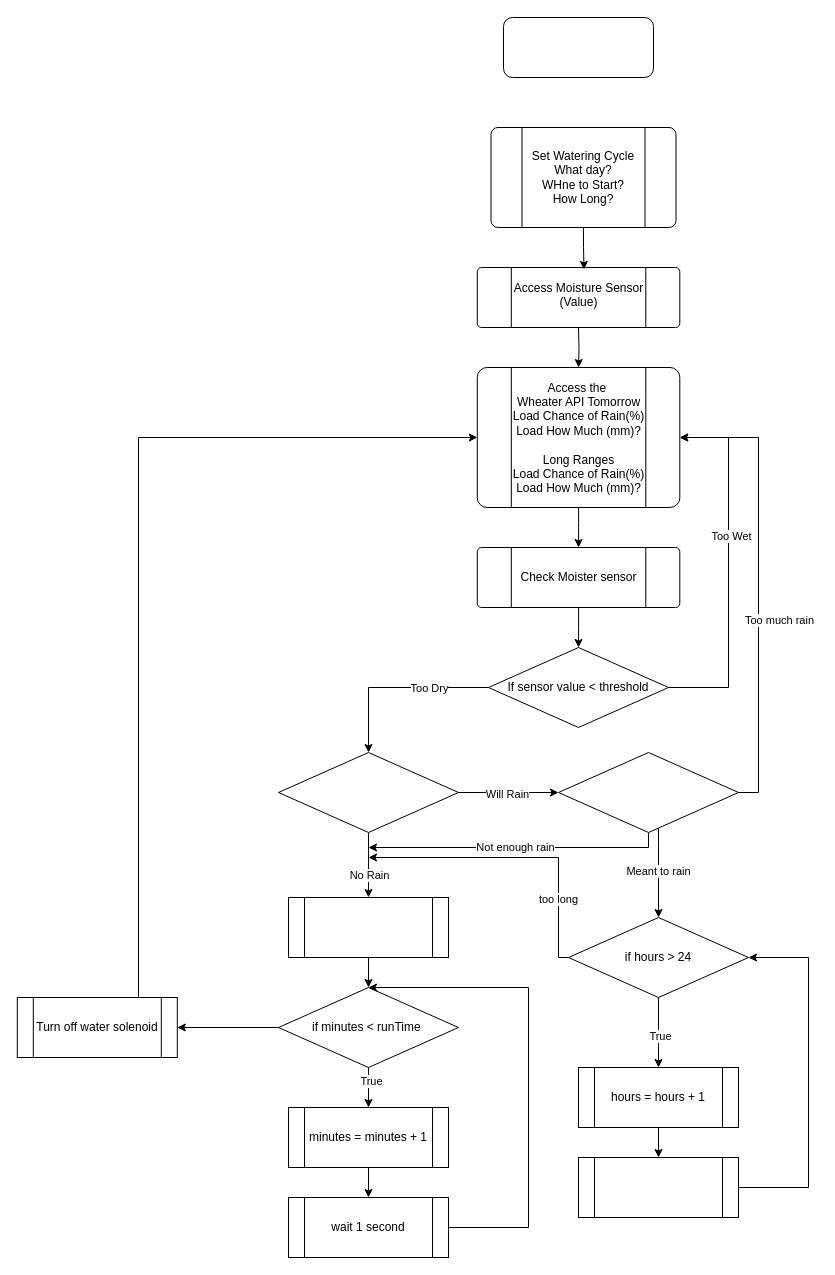
This 835x1275 diagram has some shape labels left out. Each missing label, with the centre of its shape:
if chanceRain < 70%: point (368, 792)
if mmRain < 2mm: point (648, 792)
Turn on water solenoid: point (368, 927)
User types the URL (192.168.0.104:8000): point (578, 47)
wait 1 hour: point (658, 1187)
